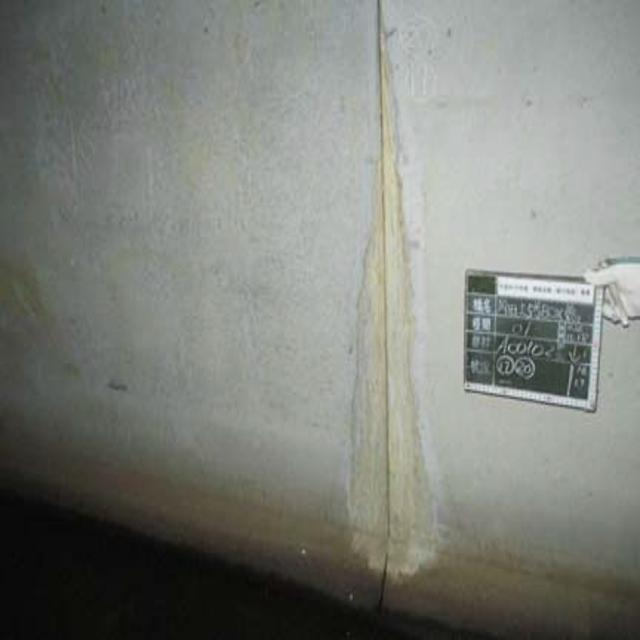leakage: (350, 76, 443, 597)
